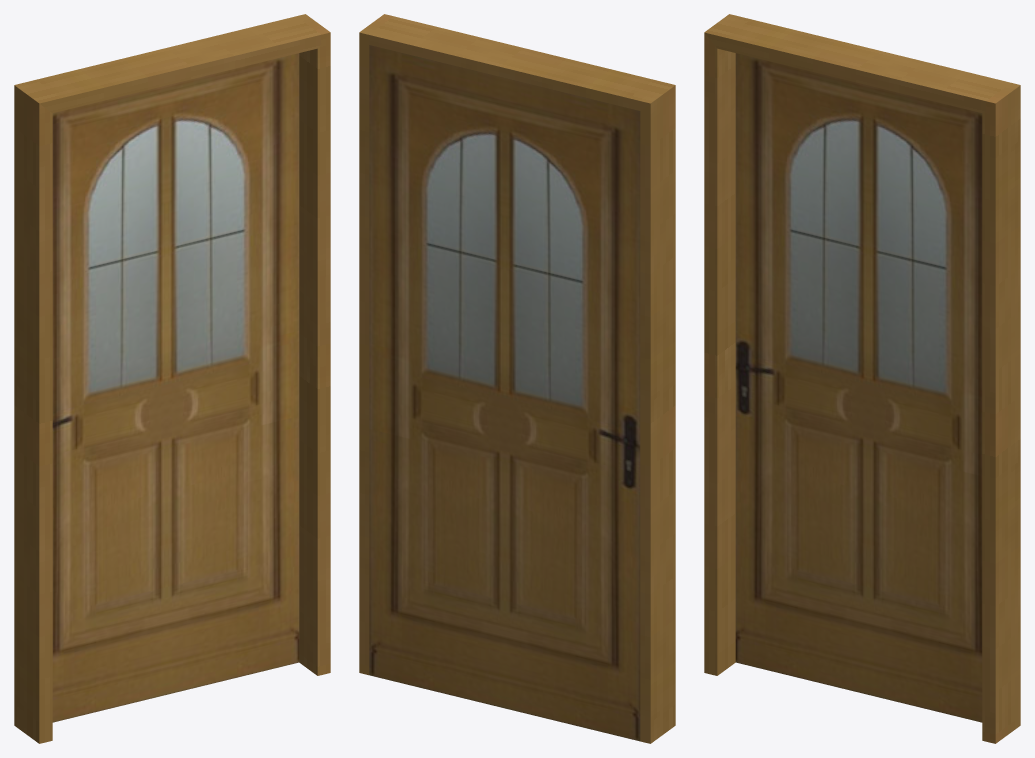
File: door_3.glb
3 renders of one model, left to right at view 1: azimuth 30°, elevation 25°; view 2: azimuth 150°, elevation 25°; view 3: azimuth 330°, elevation 25°, orthographic.
Visible parts, largest first — view 1: root; view 2: root; view 3: root.
Part boxes in pixels (x1=…): root: x1=14, y1=14, x2=330, y2=743; root: x1=359, y1=14, x2=675, y2=743; root: x1=704, y1=14, x2=1020, y2=743.
Size of the model in its own units: 1 by 2.1 by 0.15.
Materials: 5 (2 with a texture image).
